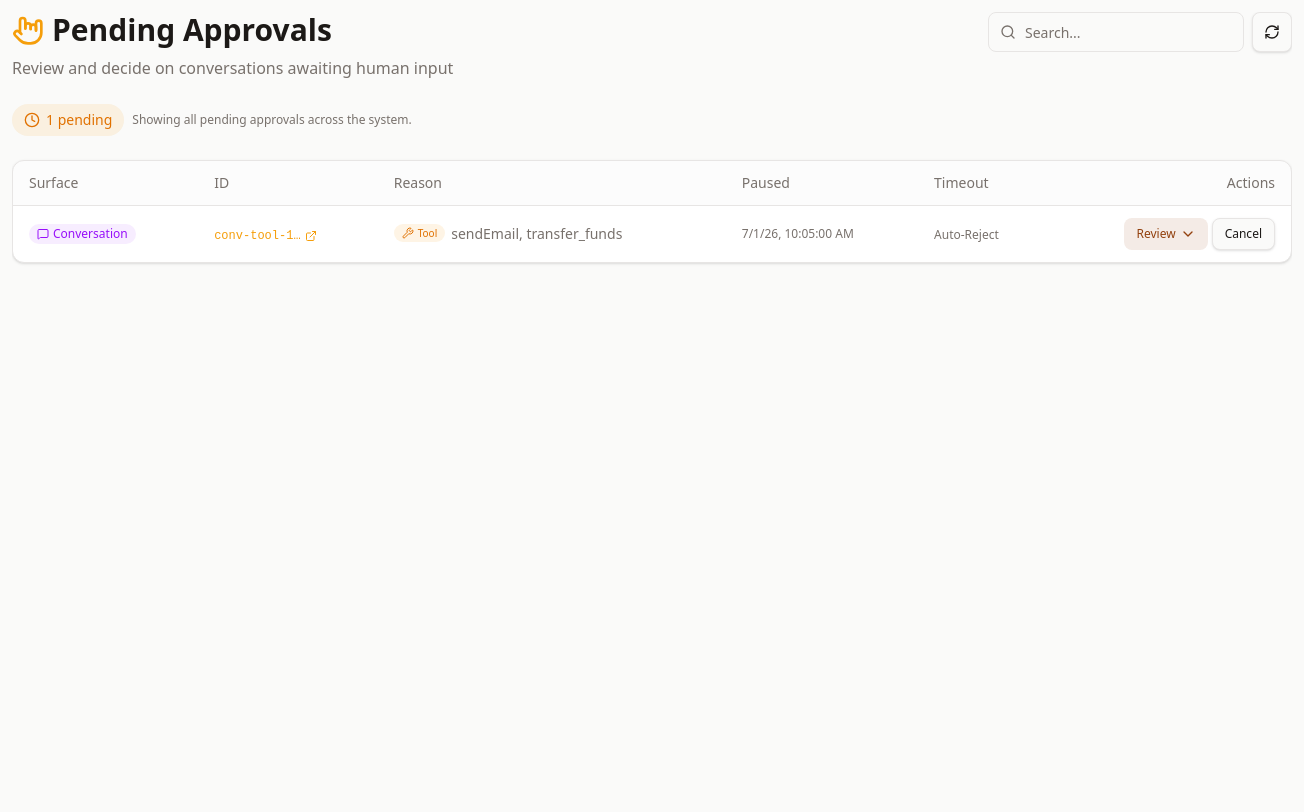
Test case: ApprovalsPage — deciding a TOOL_CALL pause inline › Close collapses the panel again
Click the button with test id "review-conv-tool-1": (1166,234) [1124,218,1208,250]
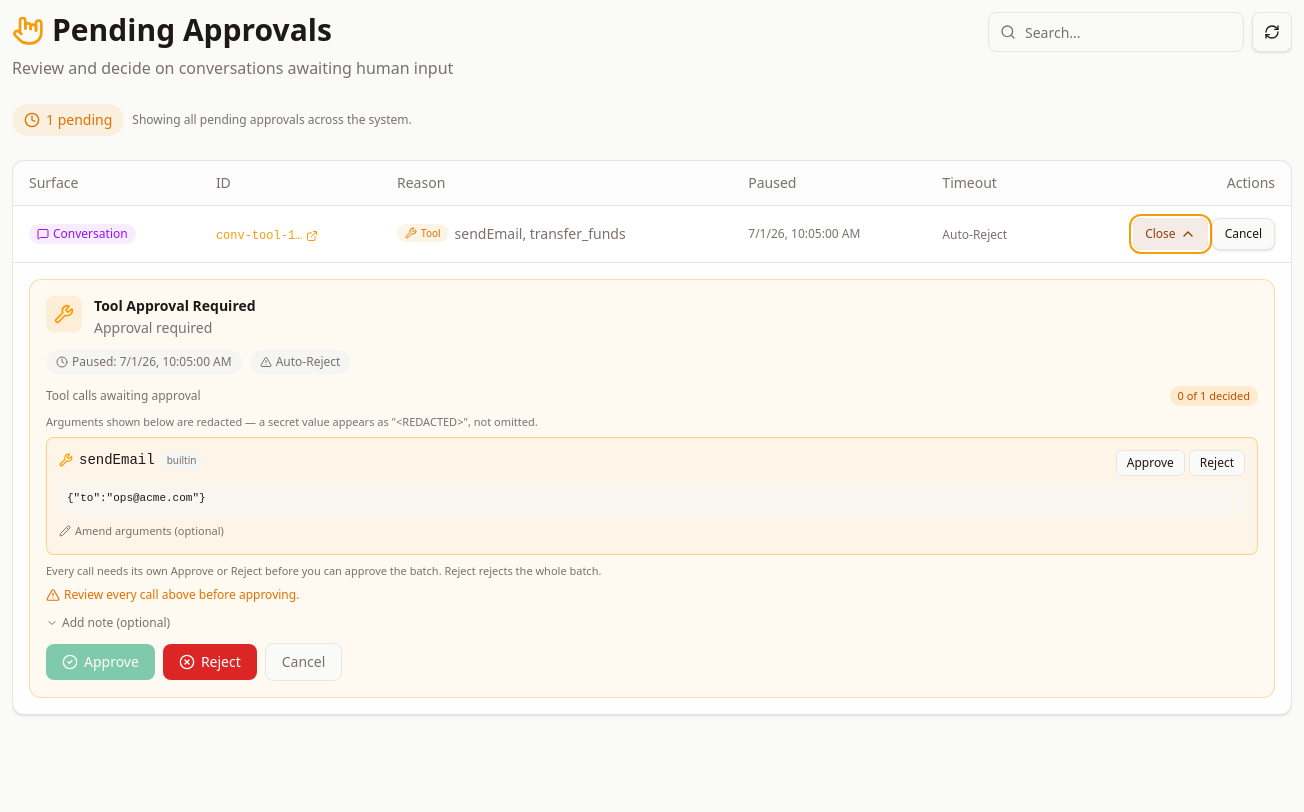
Now the row with test id "tool-decision-row-conv-tool-1" is shown, box [13,262,1291,714]
Click the button with test id "review-conv-tool-1": (1170,234) [1133,218,1208,250]
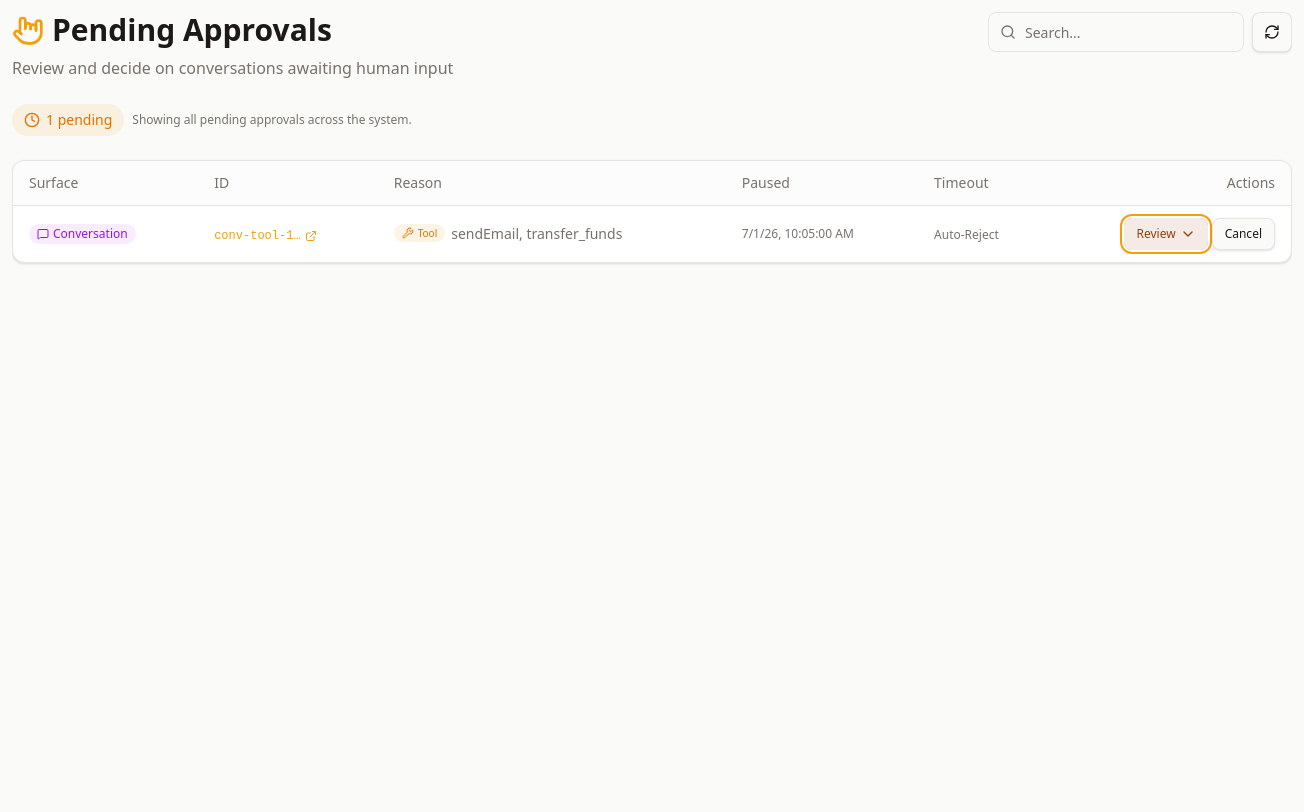
Now the row with test id "tool-decision-row-conv-tool-1" is gone
